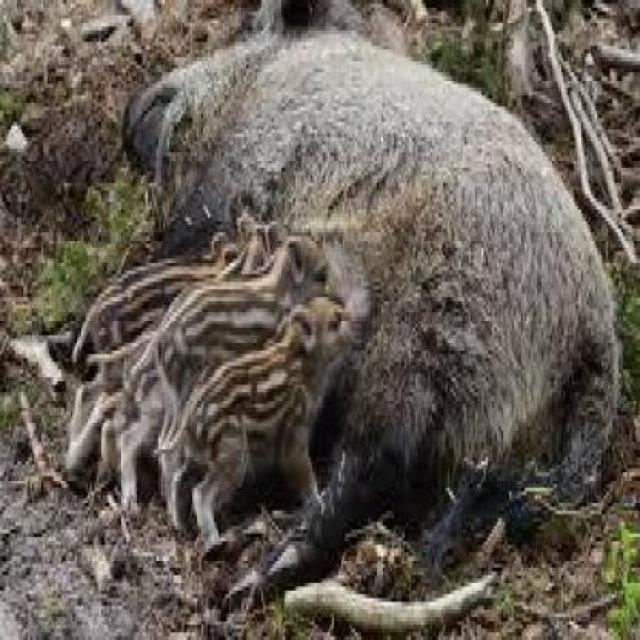wildboar: (118, 0, 620, 506), (105, 223, 337, 520), (69, 228, 266, 508), (148, 296, 366, 544)
